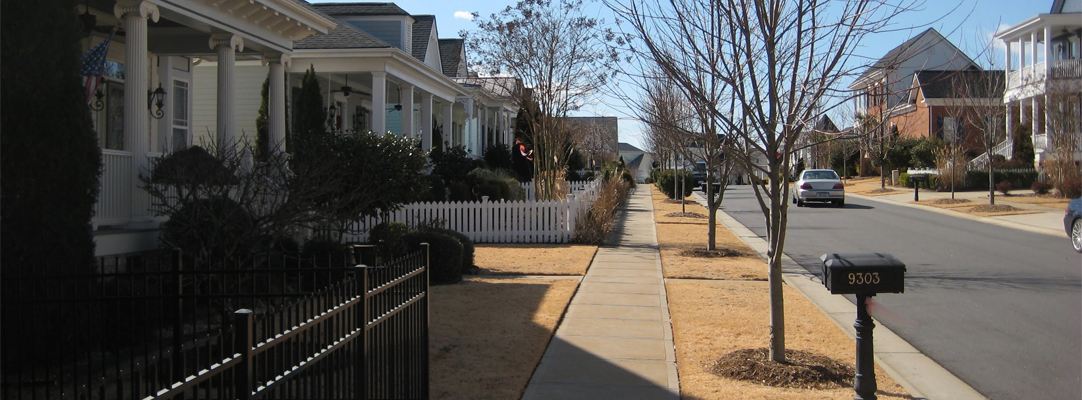Car: (789, 164, 848, 219)
Fence: (54, 242, 472, 400), (386, 179, 615, 253)
Tree: (647, 6, 812, 368)
